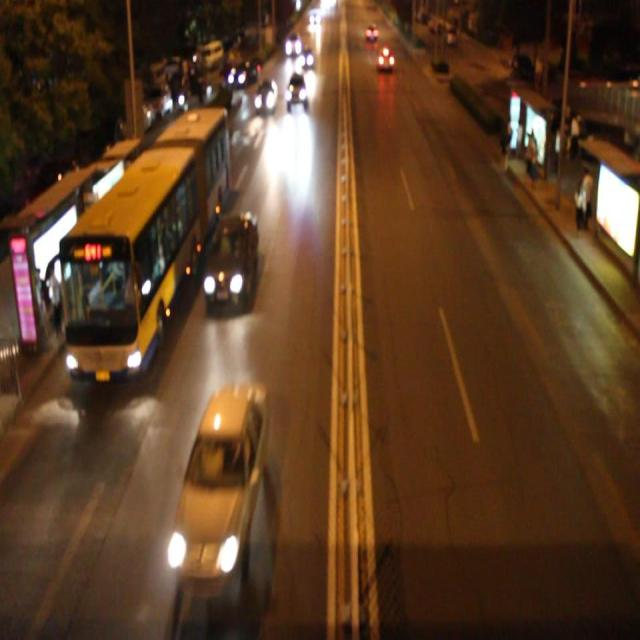car: (170, 379, 267, 587), (202, 210, 258, 310), (283, 68, 309, 106), (253, 76, 277, 117)
van: (54, 102, 219, 376)
